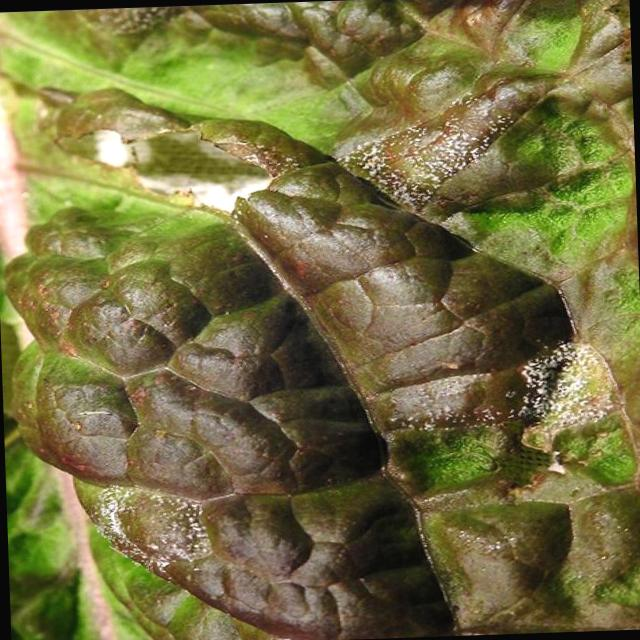Downy_Mildew: (198, 218, 462, 634)
